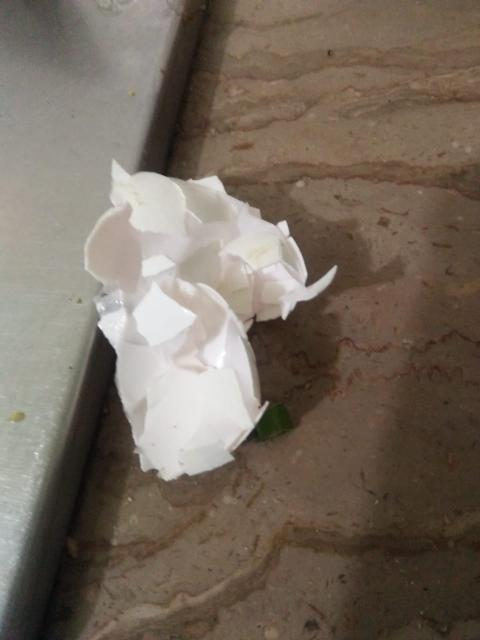Roto: (83, 158, 338, 482)
